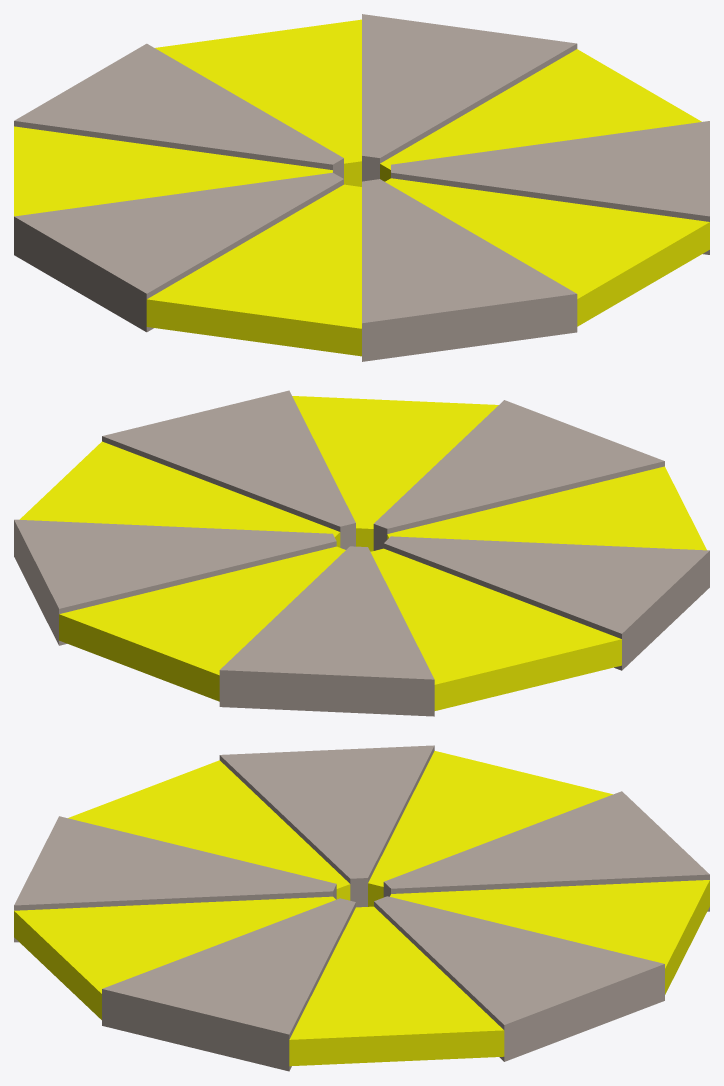
File: Block 89.fbx
3 renders of one model, top to bottom at view 1: azimuth 30°, elevation 25°; view 2: azimuth 150°, elevation 25°; view 3: azimuth 270°, elevation 25°, orthographic. The views are drawn at different scales.
Parts seen in each view (by area): view 1: polySurface7; view 2: polySurface7; view 3: polySurface7.
Boxes of the visible parts, bbox=[...] form: polySurface7: bbox=[14, 14, 709, 361]; polySurface7: bbox=[14, 390, 709, 716]; polySurface7: bbox=[14, 745, 709, 1071].
Bounding box in the file's own units: 15.26 × 0.9087 × 15.53.
